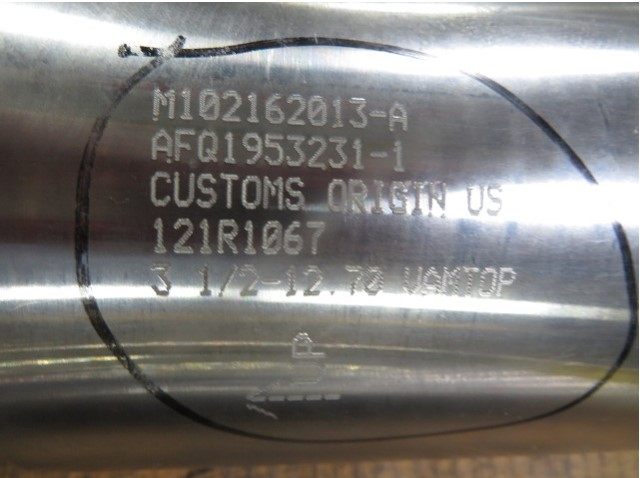character: (171, 215, 197, 259), (146, 260, 173, 302), (215, 216, 240, 260), (299, 259, 326, 299), (146, 169, 171, 212), (171, 169, 196, 212), (148, 85, 177, 122), (238, 129, 264, 169), (148, 214, 171, 259), (259, 216, 283, 259), (304, 220, 330, 259), (196, 169, 219, 213), (428, 178, 451, 221), (147, 126, 173, 164), (214, 260, 240, 298), (196, 85, 221, 124), (173, 126, 198, 164), (461, 181, 486, 219), (239, 171, 262, 212), (347, 176, 370, 217), (198, 129, 222, 168), (386, 180, 411, 217), (327, 133, 350, 173), (324, 176, 347, 216), (261, 90, 285, 127), (283, 216, 304, 258), (343, 258, 365, 298), (262, 174, 285, 212), (286, 131, 307, 172), (285, 90, 307, 129), (285, 174, 307, 213), (388, 95, 411, 132), (486, 182, 509, 219), (219, 171, 239, 213), (398, 263, 422, 298), (264, 131, 286, 169), (422, 259, 443, 298), (240, 216, 259, 259), (221, 87, 243, 124), (197, 215, 215, 260), (307, 94, 330, 129), (443, 259, 462, 301), (347, 95, 369, 131), (307, 133, 327, 172), (498, 264, 519, 301), (240, 260, 259, 299), (391, 137, 410, 175), (243, 87, 261, 127), (177, 85, 196, 122), (365, 263, 385, 298), (411, 180, 428, 221), (195, 262, 214, 298), (462, 262, 480, 300), (480, 262, 498, 300), (330, 94, 347, 131), (222, 129, 238, 168), (350, 135, 366, 173), (370, 176, 384, 219), (284, 262, 299, 299), (367, 148, 391, 164), (260, 274, 284, 287), (369, 108, 389, 123), (328, 288, 339, 298)
